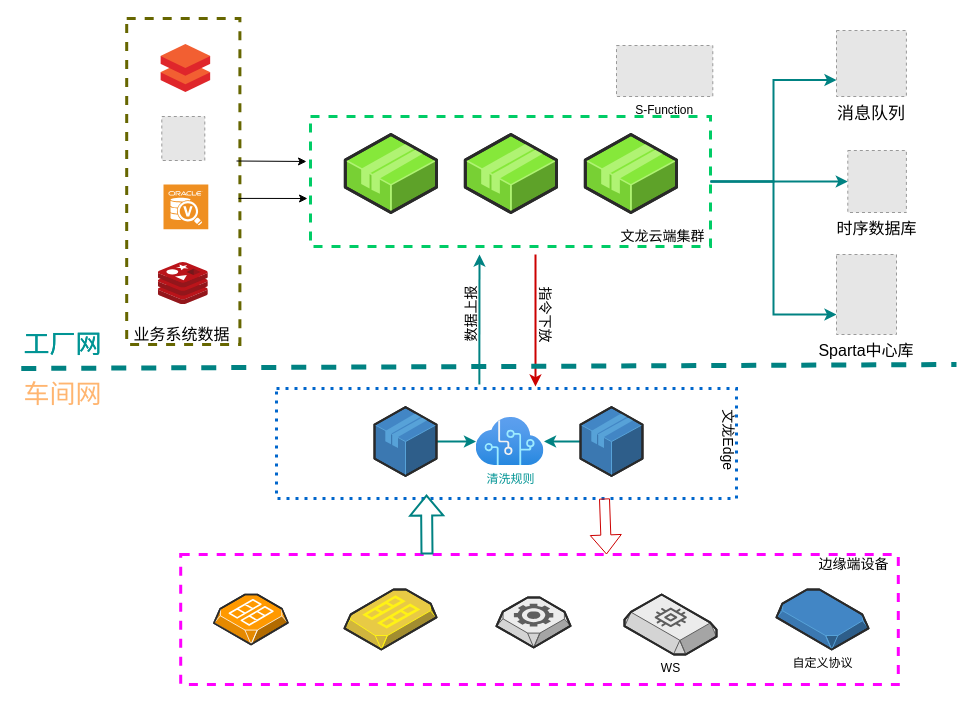
Image size: 977x703. Some labels were removed from this diagram. Grey dashed boxes stand in for pictures. The box of each missing label's shape, as (x1, y1, x2, y2) in pixels:
MODBUS: (344, 588, 436, 650)
MQTT: (496, 596, 570, 648)
OPC: (213, 594, 288, 644)
